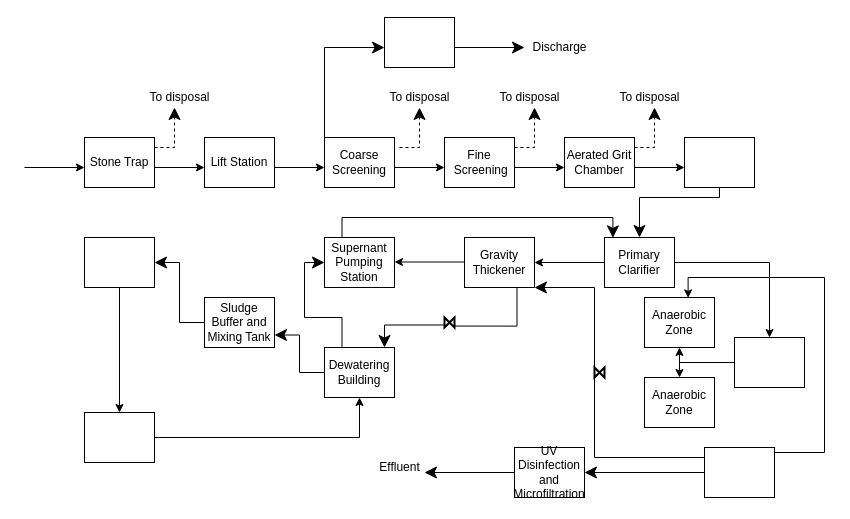
The diagram is 850 pixels wide and 519 high, and some of its shapes have lost their labels. Here are the shapes that lost their labels. From the top down, the centre of each, then its label:
pixel 419 42: By-Pass Channel
pixel 719 162: Parshall Flume
pixel 119 262: Sludge Digester
pixel 769 362: Anoxic /Aerobic Zone
pixel 119 437: Gas Storage Tank
pixel 739 472: Secondary Clarifier
